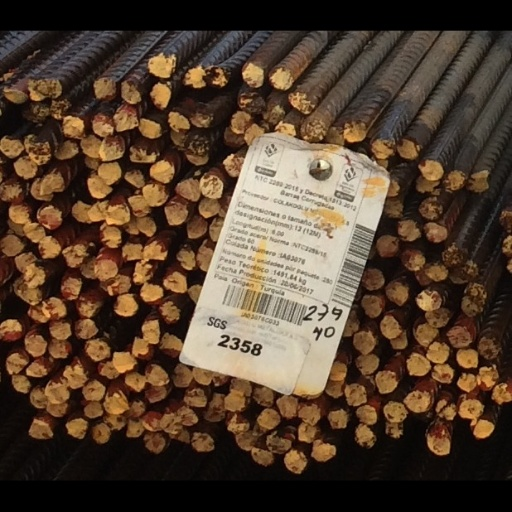dipstick: (24, 117, 52, 151), (184, 121, 212, 151), (99, 119, 124, 148), (241, 34, 264, 64), (112, 363, 138, 389), (414, 332, 441, 357), (189, 81, 213, 109), (299, 100, 323, 128), (289, 66, 313, 94), (37, 199, 62, 225), (199, 163, 223, 190), (203, 39, 228, 64), (149, 148, 174, 173), (382, 419, 407, 444), (149, 60, 173, 86), (239, 69, 263, 95), (159, 345, 183, 371), (63, 380, 87, 406), (425, 455, 449, 481), (379, 322, 402, 349), (353, 340, 376, 367), (171, 378, 193, 406), (385, 284, 407, 312), (112, 91, 137, 115), (268, 41, 292, 66), (87, 164, 111, 189), (143, 174, 168, 198), (114, 299, 138, 324), (342, 102, 367, 126), (419, 189, 443, 214), (121, 56, 144, 82), (165, 194, 188, 220), (102, 413, 128, 436), (344, 400, 367, 426), (406, 367, 429, 393), (43, 301, 65, 328), (284, 477, 306, 504), (252, 468, 274, 495), (377, 232, 399, 259), (355, 448, 377, 475), (80, 117, 101, 145), (425, 313, 449, 337), (148, 29, 173, 52), (97, 149, 120, 174), (164, 273, 187, 298), (159, 307, 182, 332), (106, 196, 129, 221), (144, 457, 169, 480), (14, 142, 36, 168), (28, 442, 54, 464), (417, 146, 443, 168), (0, 232, 22, 258), (276, 413, 297, 440), (175, 245, 196, 272), (98, 222, 121, 246), (62, 245, 86, 268), (86, 351, 109, 375), (24, 346, 47, 370), (82, 396, 105, 420), (257, 429, 280, 453), (267, 455, 290, 479), (425, 259, 448, 283), (354, 367, 378, 390), (426, 353, 449, 377), (8, 195, 31, 219), (91, 95, 113, 120), (23, 265, 45, 290), (132, 349, 154, 374), (458, 420, 483, 442), (223, 140, 244, 166), (94, 261, 117, 284), (397, 214, 420, 237), (416, 294, 439, 317), (177, 169, 199, 193), (38, 233, 60, 257), (371, 123, 395, 145), (0, 120, 22, 144), (94, 54, 115, 79), (168, 91, 189, 116), (184, 41, 205, 66), (128, 187, 149, 212), (434, 417, 455, 442), (362, 300, 382, 326), (376, 386, 396, 412), (313, 463, 333, 489), (129, 130, 156, 149), (38, 53, 61, 75), (62, 98, 84, 121), (139, 98, 161, 121), (140, 286, 162, 309), (423, 218, 446, 240), (403, 249, 425, 272), (431, 377, 453, 400), (186, 211, 207, 235), (47, 400, 68, 424), (399, 121, 418, 147), (75, 327, 97, 349), (49, 328, 71, 350), (48, 351, 70, 373), (224, 410, 245, 433), (363, 270, 383, 294), (7, 365, 26, 390), (65, 441, 86, 463), (192, 457, 214, 478), (356, 424, 377, 446), (472, 441, 494, 462), (72, 193, 92, 216), (24, 218, 44, 241), (229, 433, 249, 456), (492, 400, 512, 423), (232, 91, 251, 115), (61, 281, 80, 305), (406, 412, 430, 431), (198, 191, 219, 212), (12, 391, 33, 412), (184, 407, 205, 428), (446, 159, 466, 181), (444, 245, 463, 268), (31, 404, 48, 429), (458, 390, 478, 411), (457, 363, 478, 383), (144, 433, 163, 455), (299, 425, 318, 447), (97, 377, 120, 395), (125, 390, 145, 410), (328, 430, 347, 451), (471, 160, 490, 181), (137, 211, 155, 233), (45, 422, 69, 438), (29, 374, 48, 394), (125, 439, 141, 462), (6, 328, 21, 352), (390, 341, 406, 363), (384, 445, 403, 462), (83, 422, 101, 439), (129, 419, 144, 439)
